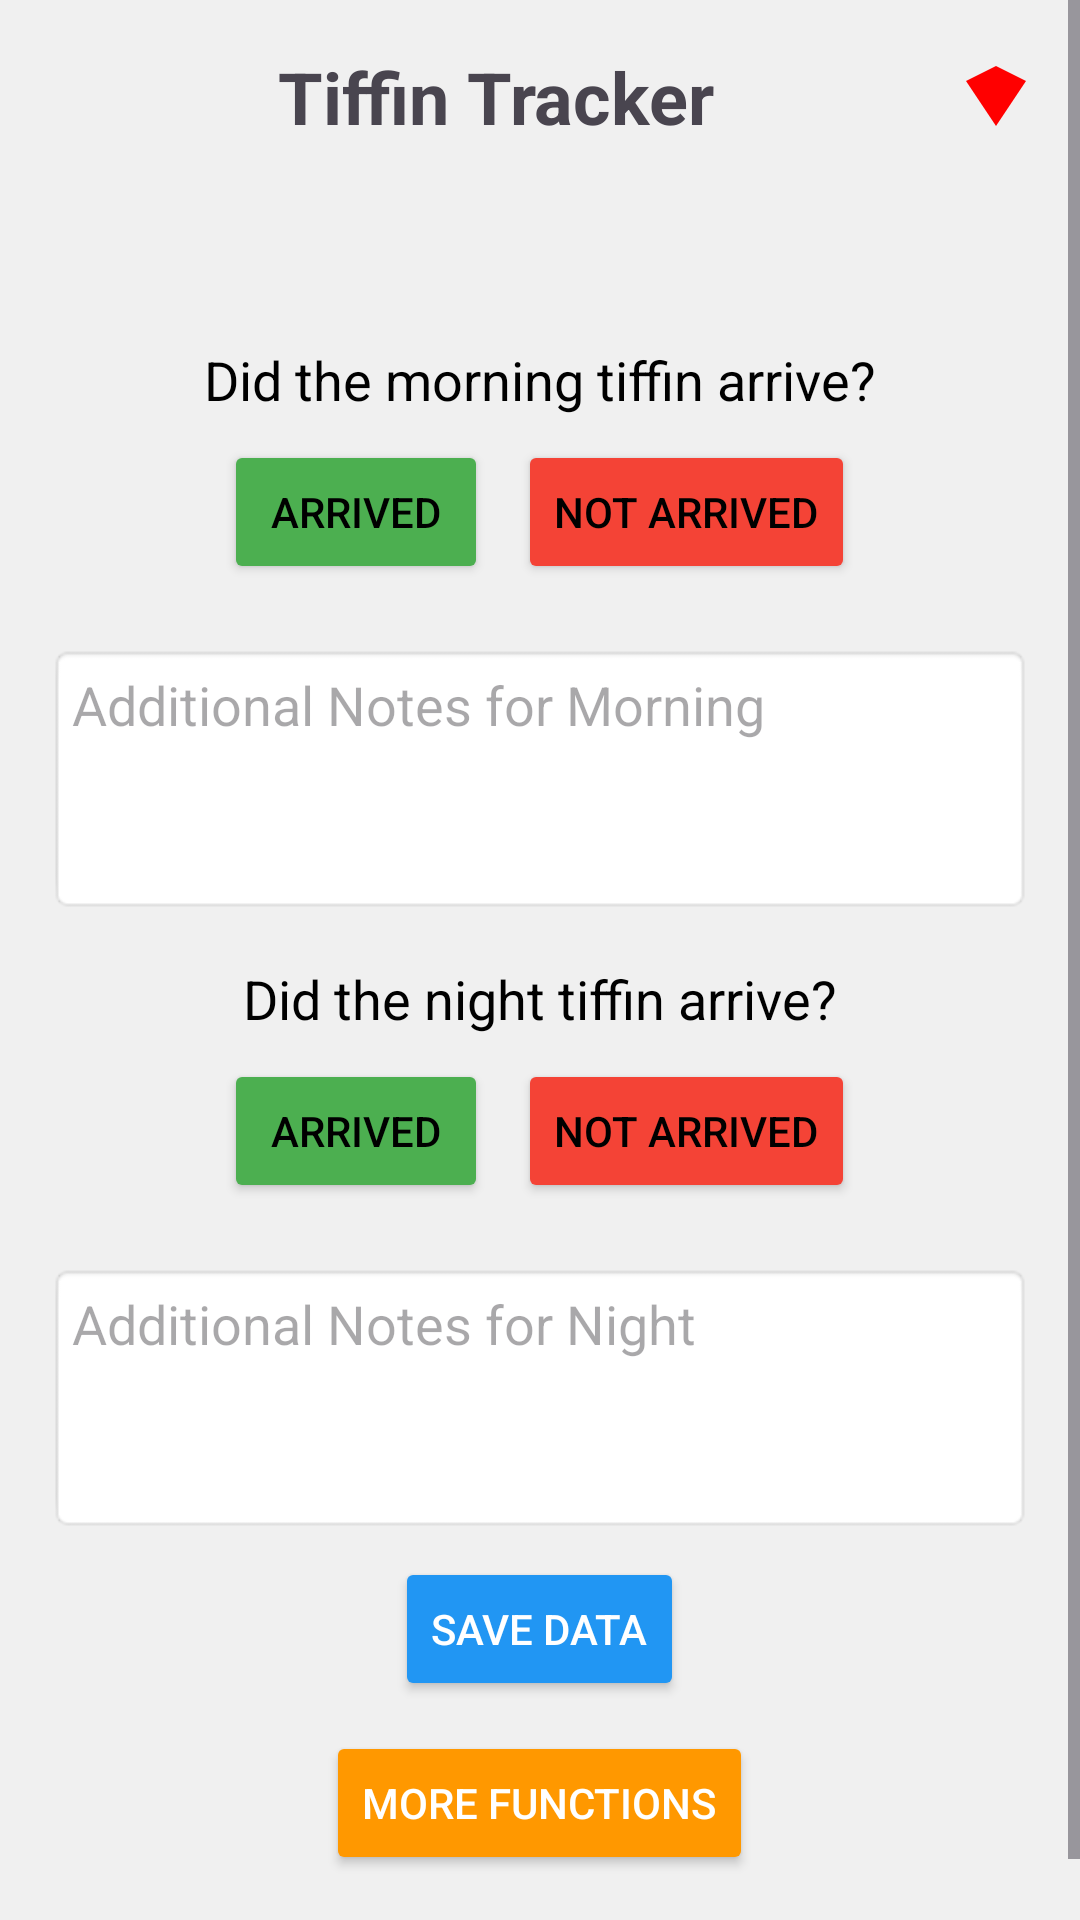

Icons on this 1080 x 1920 Android screen, each with its box as {"x1": x1, "y1": y1, "x2": x2, "y2": y2}:
Premium: {"x1": 966, "y1": 66, "x2": 1026, "y2": 126}
